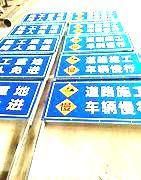sign: (51, 82, 141, 121), (58, 54, 139, 78), (1, 80, 33, 115), (64, 36, 133, 51), (1, 56, 44, 76), (2, 37, 55, 52), (10, 23, 61, 35), (70, 23, 123, 34), (75, 11, 118, 21), (22, 12, 67, 21)
